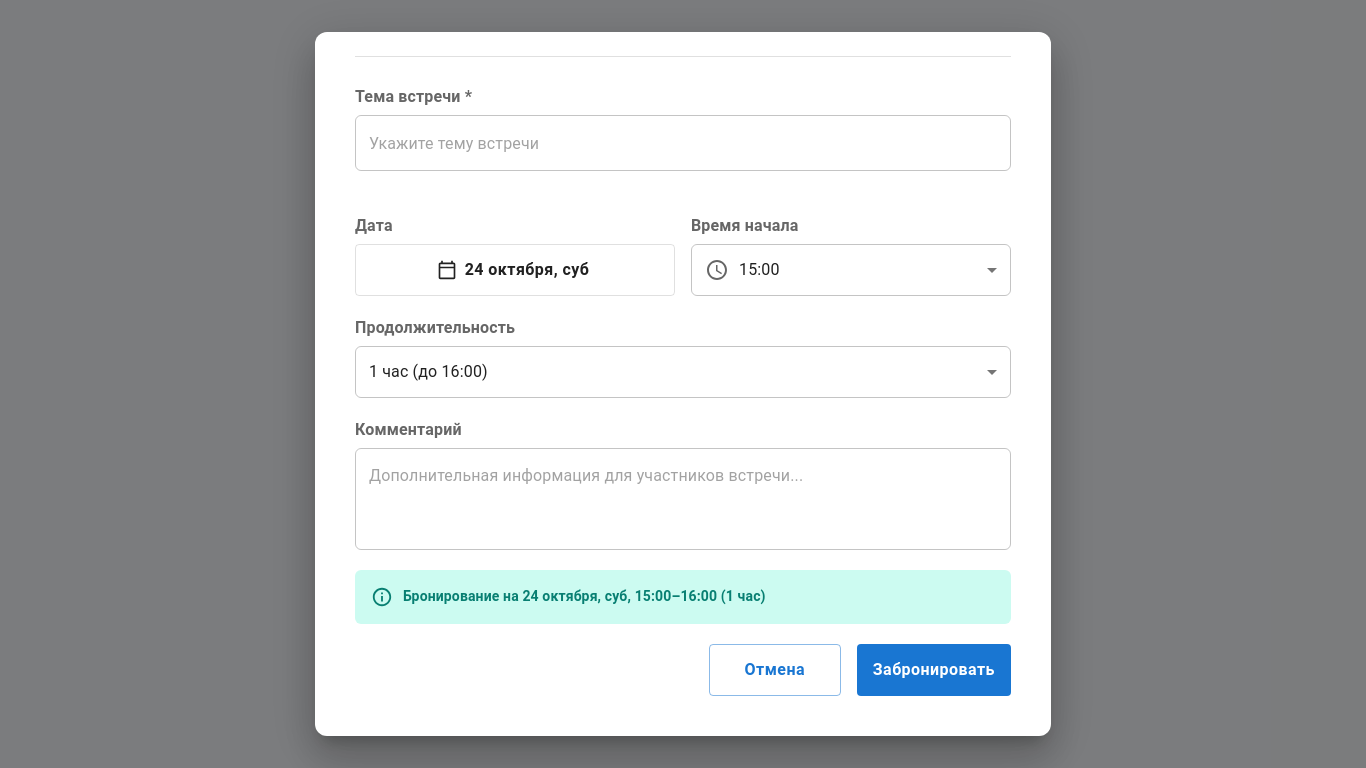
Test: BookingModal › requires a meeting title
(page scrolled)
Click the button "Забронировать" at {"x": 934, "y": 670}, box [857,644,1011,696]
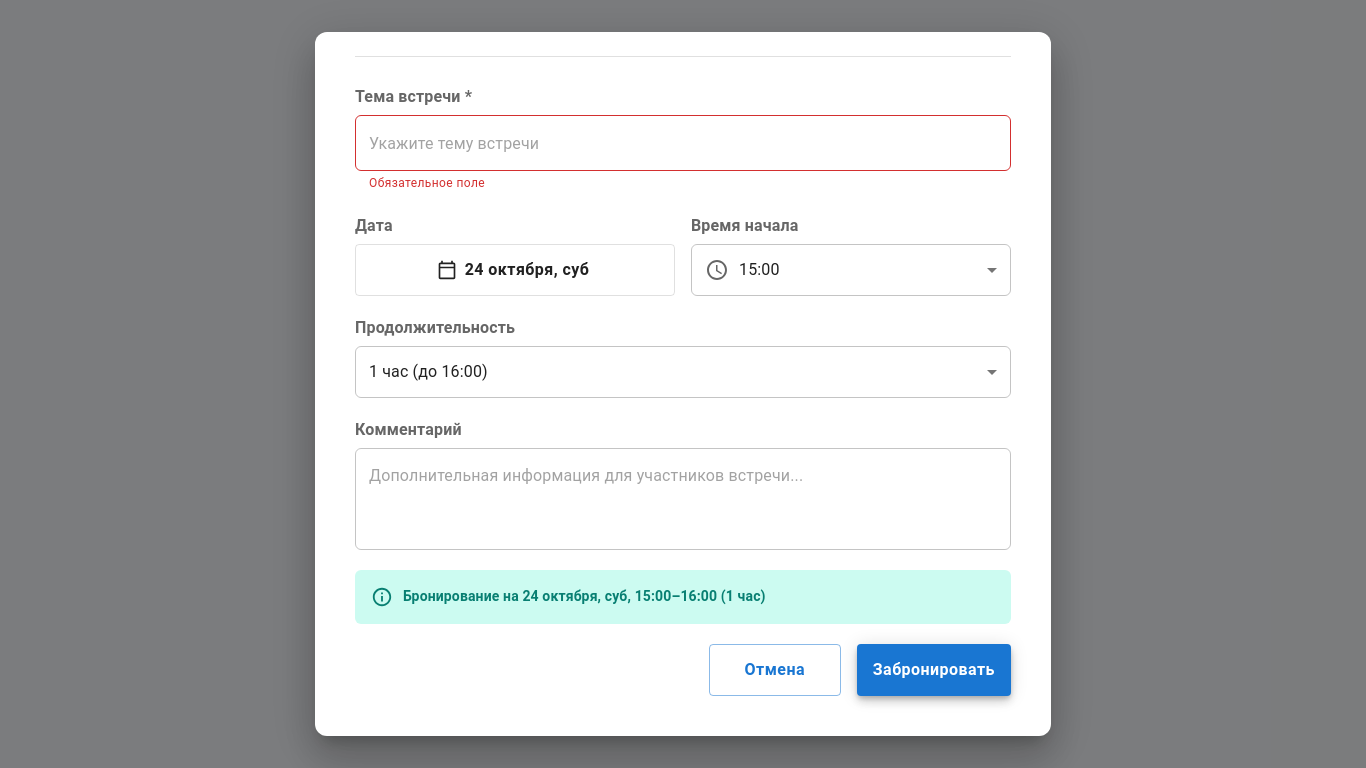
Now the text "Обязательное поле" is shown, box [369,176,485,190]
